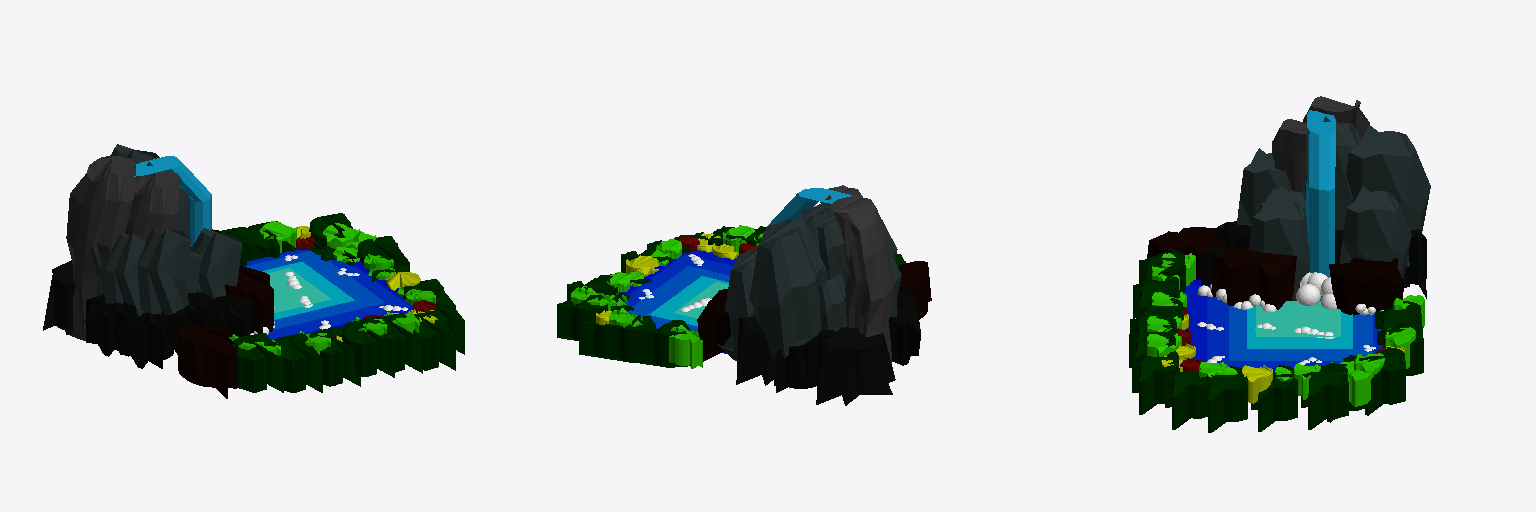
Rendered from waterfall.obj.
The picture shows the model from 3 angles: view 1: azimuth 30°, elevation 25°; view 2: azimuth 150°, elevation 25°; view 3: azimuth 270°, elevation 25°; orthographic projection.
Parts seen in each view (by area): view 1: Cylinder.011, Cylinder.018, Cylinder.024, Cylinder.013, Plane.003, Cylinder.001, Cylinder.019, Cylinder.042, Cylinder.017, Plane.004, Cylinder.016, Cylinder.031 (+20 smaller); view 2: Cylinder.008, Cylinder.011, Cylinder.012, Cylinder.007, Cylinder.002, Cylinder.022, Cylinder.017, Plane.003, Cylinder.003, Cylinder.051, Cylinder.036, Cylinder.034 (+11 smaller); view 3: Cylinder.008, Cylinder, Cylinder.002, Cylinder.004, Cylinder.003, Cylinder.001, Plane.003, Plane.001, Cylinder.059, Cylinder.018, Cylinder.062, Cylinder.061 (+23 smaller).
Part boxes in pixels (left/top/right/bottom): Cylinder.011: left=66, top=156, right=135, bottom=340; Cylinder.018: left=137, top=229, right=190, bottom=314; Cylinder.024: left=178, top=323, right=237, bottom=398; Cylinder.013: left=125, top=170, right=179, bottom=240; Plane.003: left=246, top=251, right=385, bottom=329; Cylinder.001: left=193, top=228, right=242, bottom=299; Cylinder.019: left=101, top=233, right=145, bottom=316; Cylinder.042: left=232, top=333, right=283, bottom=392; Cylinder.017: left=85, top=294, right=136, bottom=356; Plane.004: left=244, top=250, right=410, bottom=339; Cylinder.016: left=118, top=312, right=173, bottom=368; Cylinder.031: left=273, top=333, right=322, bottom=392; Cylinder.008: left=749, top=214, right=823, bottom=358; Cylinder.011: left=831, top=195, right=892, bottom=383; Cylinder.012: left=816, top=327, right=895, bottom=405; Cylinder.007: left=736, top=316, right=775, bottom=385; Cylinder.002: left=718, top=248, right=756, bottom=360; Cylinder.022: left=774, top=339, right=818, bottom=392; Cylinder.017: left=888, top=300, right=920, bottom=365; Plane.003: left=628, top=266, right=729, bottom=331; Cylinder.003: left=697, top=289, right=730, bottom=361; Cylinder.051: left=557, top=295, right=607, bottom=341; Cylinder.036: left=605, top=315, right=655, bottom=362; Cylinder.034: left=639, top=320, right=689, bottom=367; Cylinder.008: left=1346, top=125, right=1430, bottom=266; Cylinder: left=1306, top=110, right=1335, bottom=277; Cylinder.002: left=1340, top=186, right=1411, bottom=278; Cylinder.004: left=1211, top=246, right=1296, bottom=309; Cylinder.003: left=1329, top=258, right=1403, bottom=315; Cylinder.001: left=1248, top=195, right=1309, bottom=300; Plane.003: left=1229, top=300, right=1372, bottom=360; Plane.001: left=1256, top=301, right=1340, bottom=336; Cylinder.059: left=1301, top=363, right=1348, bottom=429; Cylinder.018: left=1237, top=148, right=1291, bottom=225; Cylinder.062: left=1165, top=371, right=1211, bottom=429; Cylinder.061: left=1205, top=366, right=1247, bottom=432.
Bounding box in the file's own units: 18.1 × 10.15 × 13.98.